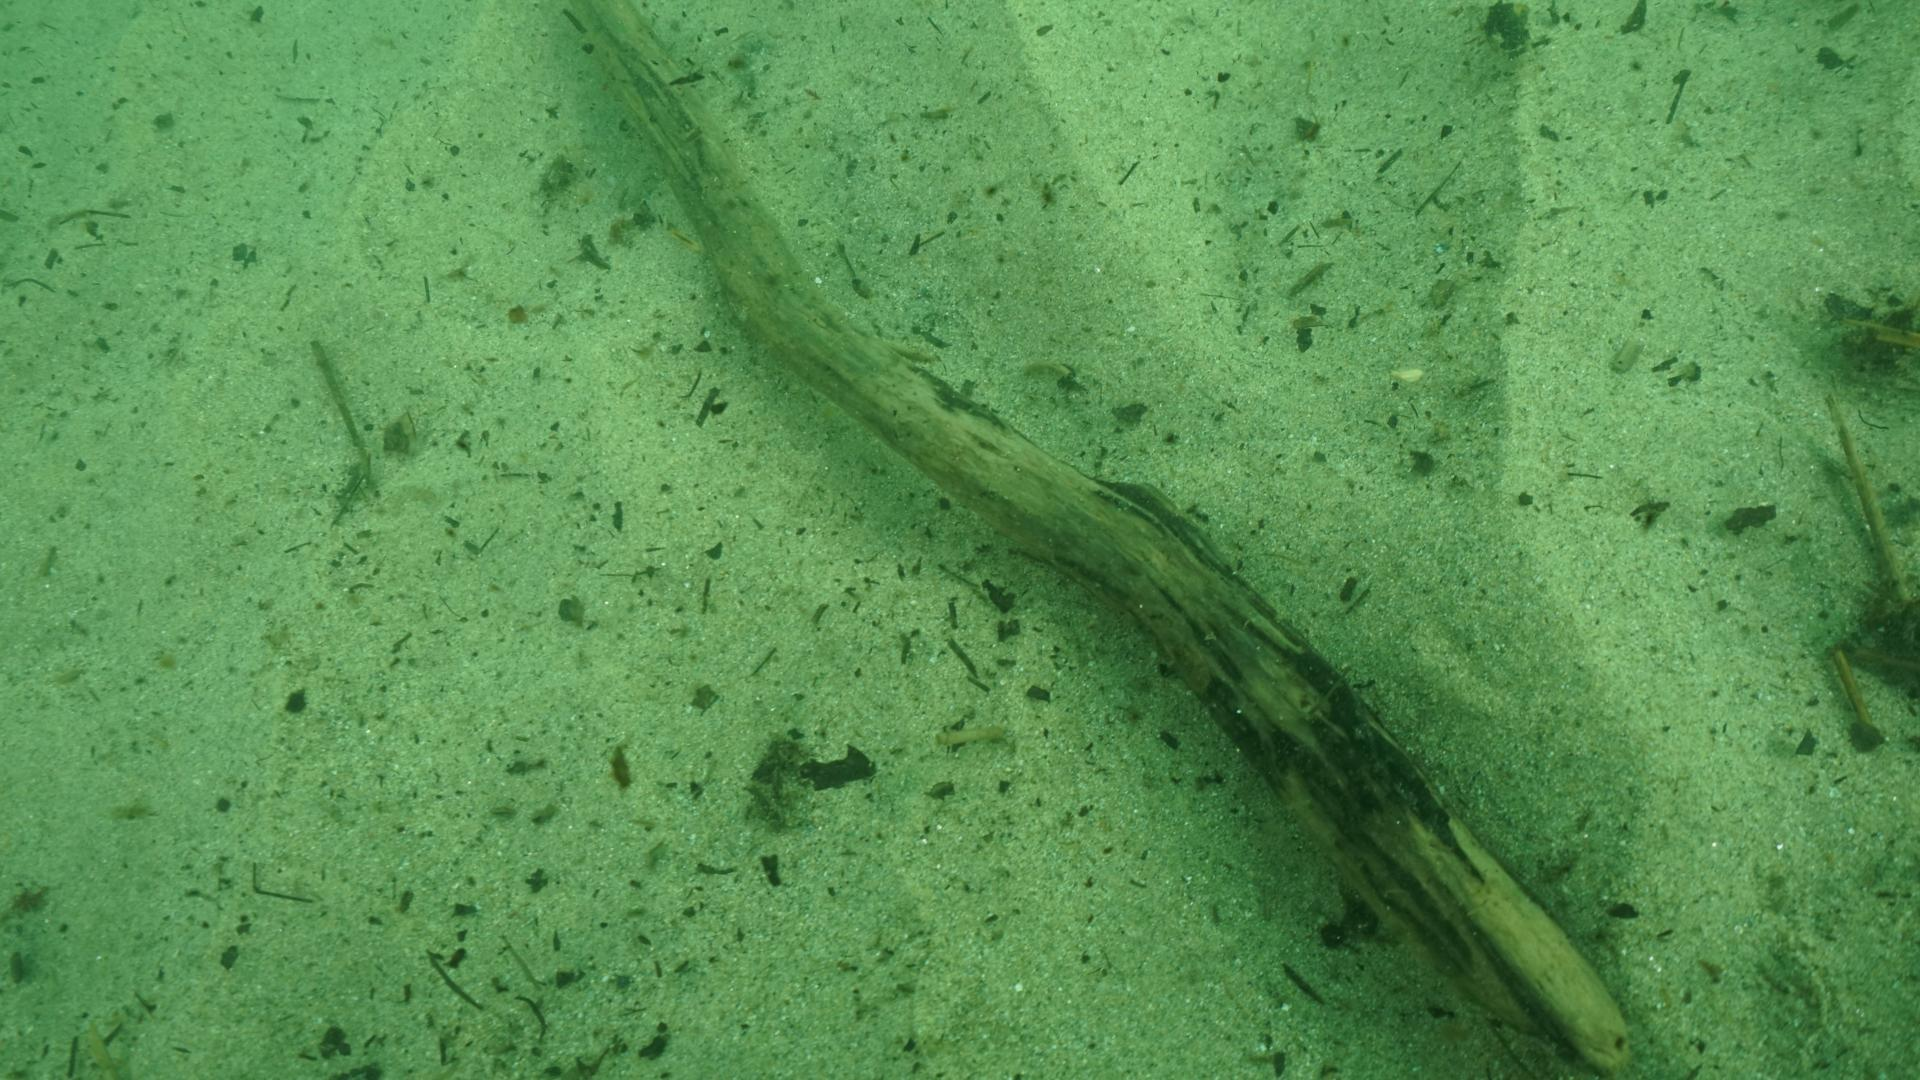wood: (558, 3, 1629, 1080)
